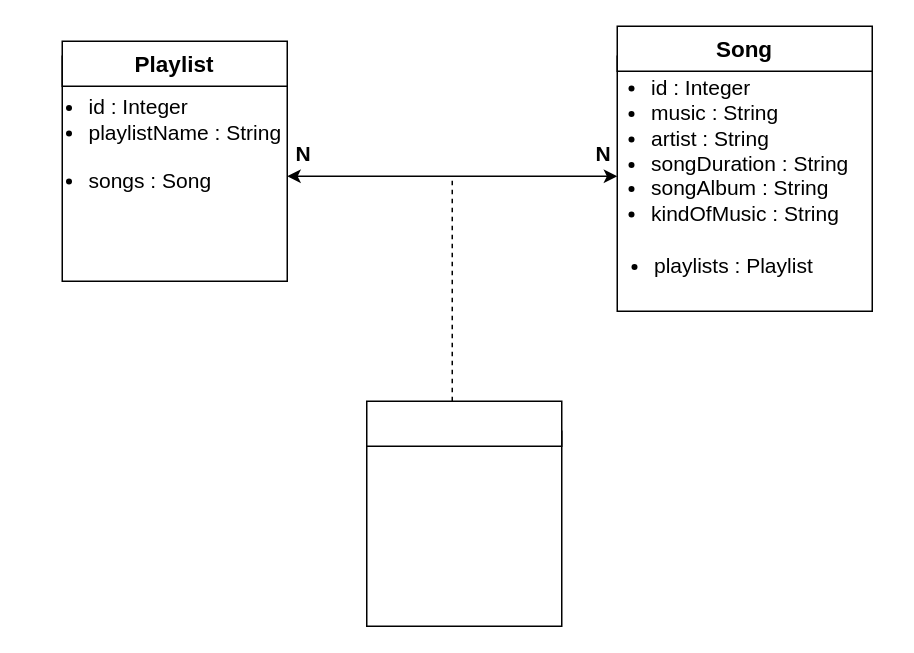
The diagram is 914 pixels wide and 653 high, and some of its shapes have lost their labels. The shapes that lost their labels are listed below. From the top down, each one's box as (x1, y1, x2, y2) in pixels, then its label:
(365, 400, 562, 446): PlaylistSong
(365, 430, 562, 626): id : Integer songId: Integer playlistId : Integer
